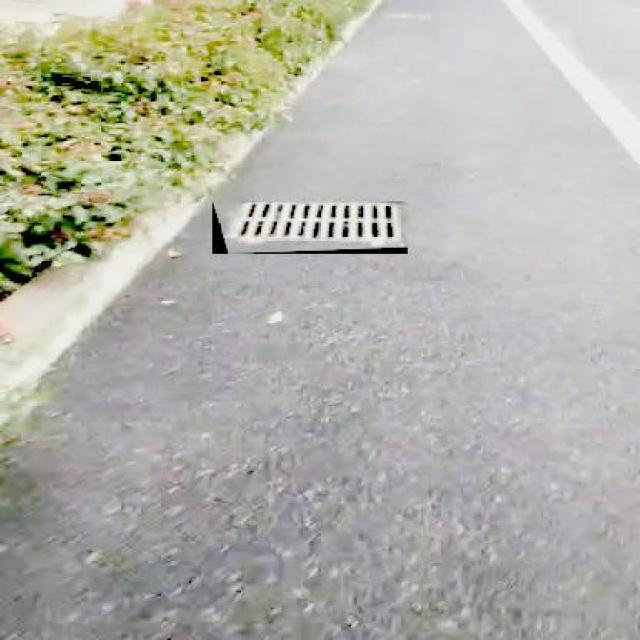Manhole: (214, 197, 410, 250)
